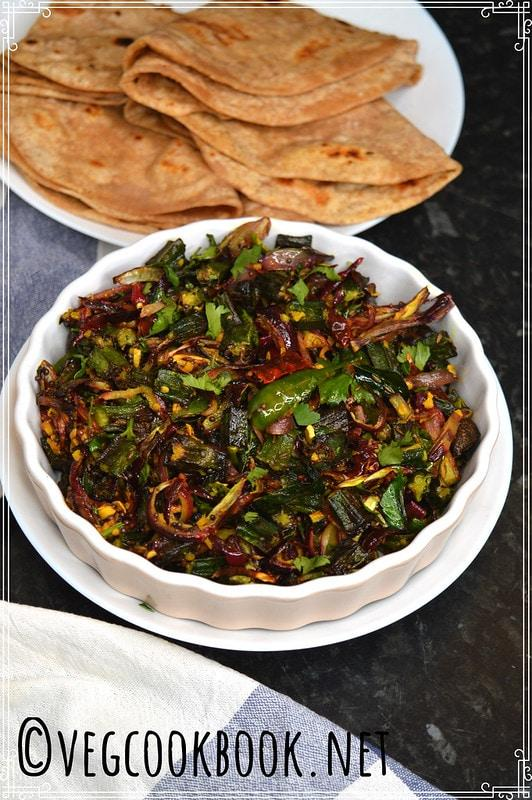bhindi: (47, 257, 457, 544)
roti phulka: (0, 0, 463, 225)
